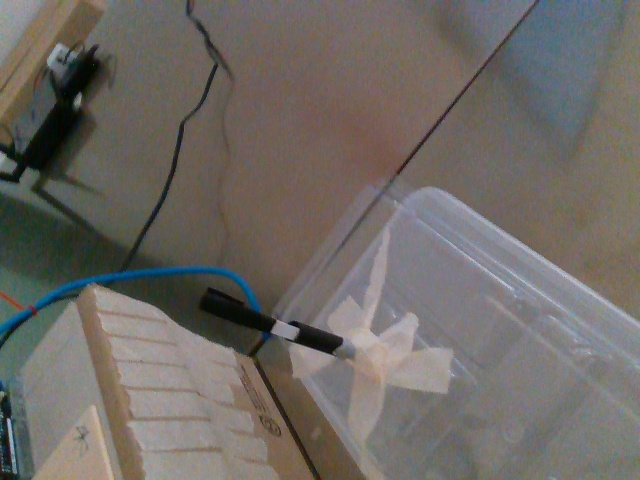test_strip: (196, 287, 297, 339)
